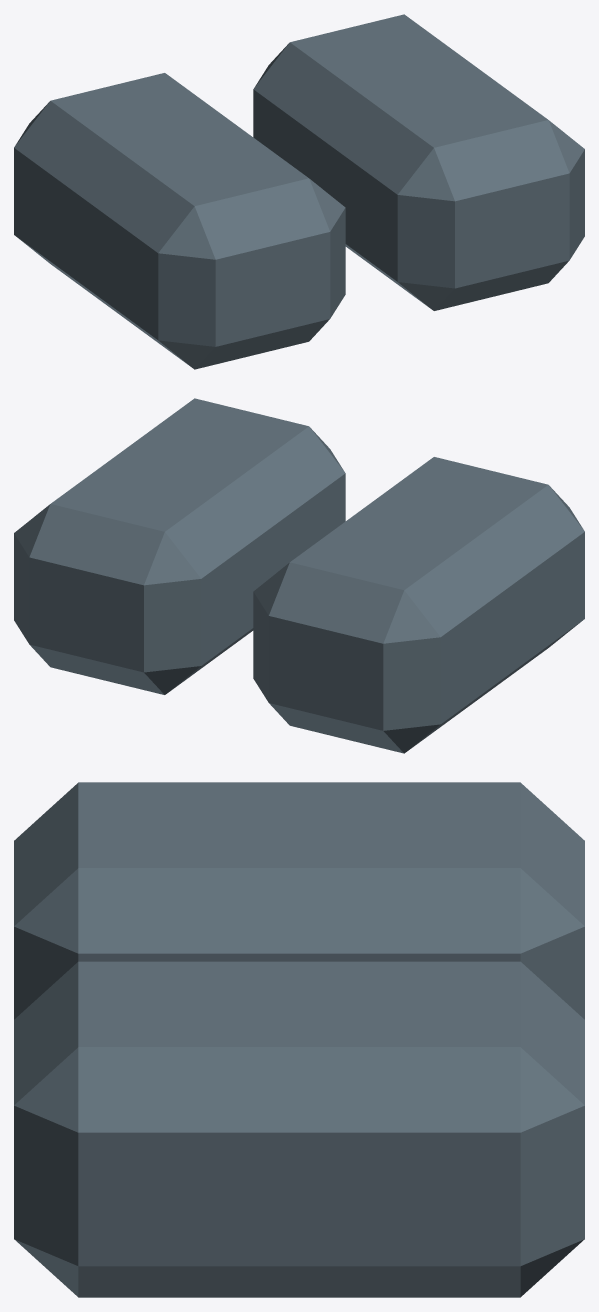
The model's file is SM_NPC_Feet_01_Shoes.glb.
3 renders of one model, top to bottom at view 1: azimuth 30°, elevation 25°; view 2: azimuth 150°, elevation 25°; view 3: azimuth 270°, elevation 25°, orthographic. The views are drawn at different scales.
Parts seen in each view (by area): view 1: SM_NPC_Feet_01_Shoes; view 2: SM_NPC_Feet_01_Shoes; view 3: SM_NPC_Feet_01_Shoes.
Boxes of the visible parts, x1,y1,x2,y2 form: SM_NPC_Feet_01_Shoes: (14, 14, 584, 369); SM_NPC_Feet_01_Shoes: (14, 398, 584, 753); SM_NPC_Feet_01_Shoes: (14, 782, 584, 1297).
Size of the model in its own units: 0.41 by 0.15 by 0.31.
